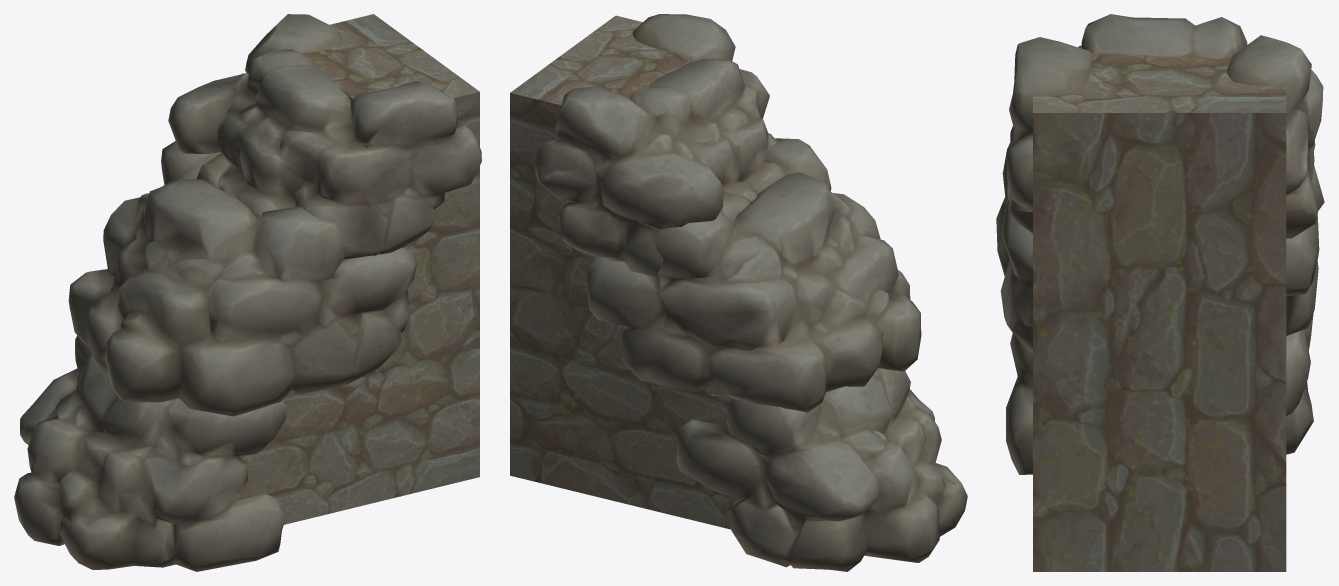
File: MSH_fwOF_Ruins_Wall_Half_Low_End_01.fbx
3 views of the same model, side by side, from view 1: azimuth 30°, elevation 25°; view 2: azimuth 150°, elevation 25°; view 3: azimuth 270°, elevation 25° (orthographic). The views are drawn at different scales.
Parts seen in each view (by area): view 1: MSH_fwOF_Ruins_Wall_Half_Low_End_01_LOD0, MSH_fwOF_Ruins_Wall_Half_Low_End_01_Base; view 2: MSH_fwOF_Ruins_Wall_Half_Low_End_01_LOD0, MSH_fwOF_Ruins_Wall_Half_Low_End_01_Base; view 3: MSH_fwOF_Ruins_Wall_Half_Low_End_01_Base, MSH_fwOF_Ruins_Wall_Half_Low_End_01_LOD0.
Part boxes in pixels (x1,y1,x2,y2): MSH_fwOF_Ruins_Wall_Half_Low_End_01_LOD0: [14, 14, 481, 571]; MSH_fwOF_Ruins_Wall_Half_Low_End_01_Base: [237, 14, 479, 524]; MSH_fwOF_Ruins_Wall_Half_Low_End_01_LOD0: [535, 14, 967, 571]; MSH_fwOF_Ruins_Wall_Half_Low_End_01_Base: [510, 15, 744, 529]; MSH_fwOF_Ruins_Wall_Half_Low_End_01_Base: [1033, 53, 1286, 571]; MSH_fwOF_Ruins_Wall_Half_Low_End_01_LOD0: [996, 14, 1324, 474].
Size of what is drawn, in the model's own units: 2.11 by 2.21 by 1.3.
